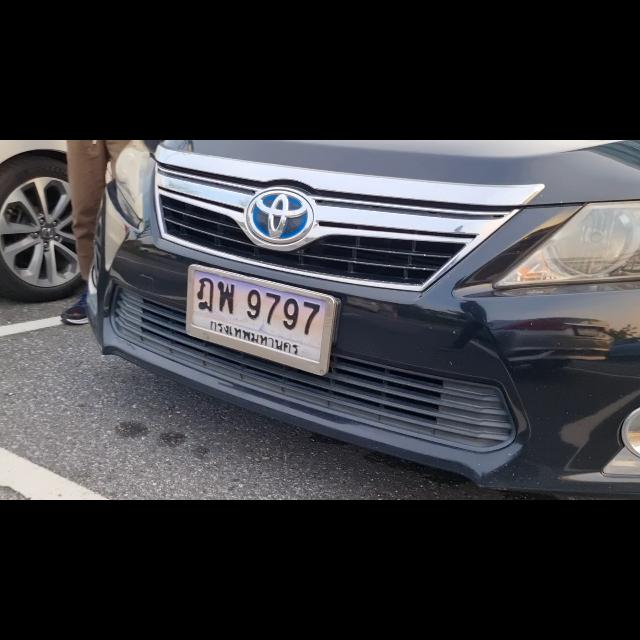licenseplate: (188, 264, 338, 378)
